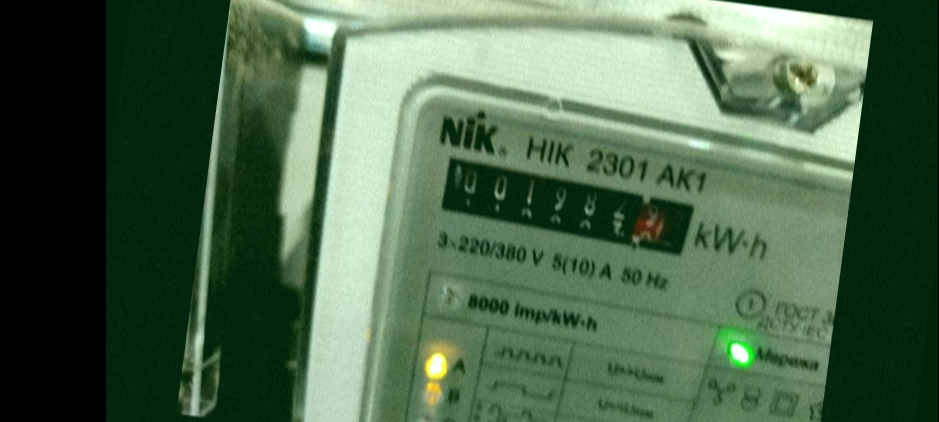0: (458, 162, 478, 193), (488, 169, 508, 200)
1: (519, 173, 535, 204)
2: (608, 188, 630, 219)
8: (578, 185, 598, 215)
9: (638, 198, 662, 228), (548, 180, 566, 211)
screen: (418, 138, 709, 270)
